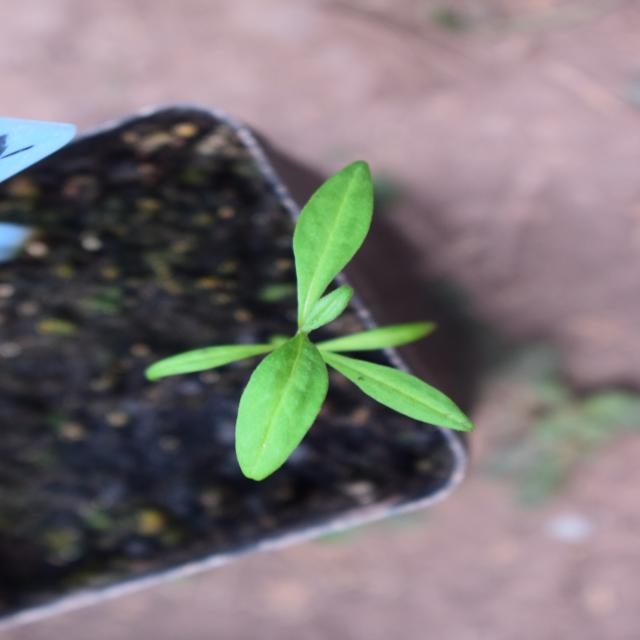white_smart_weed: (163, 180, 450, 447)
